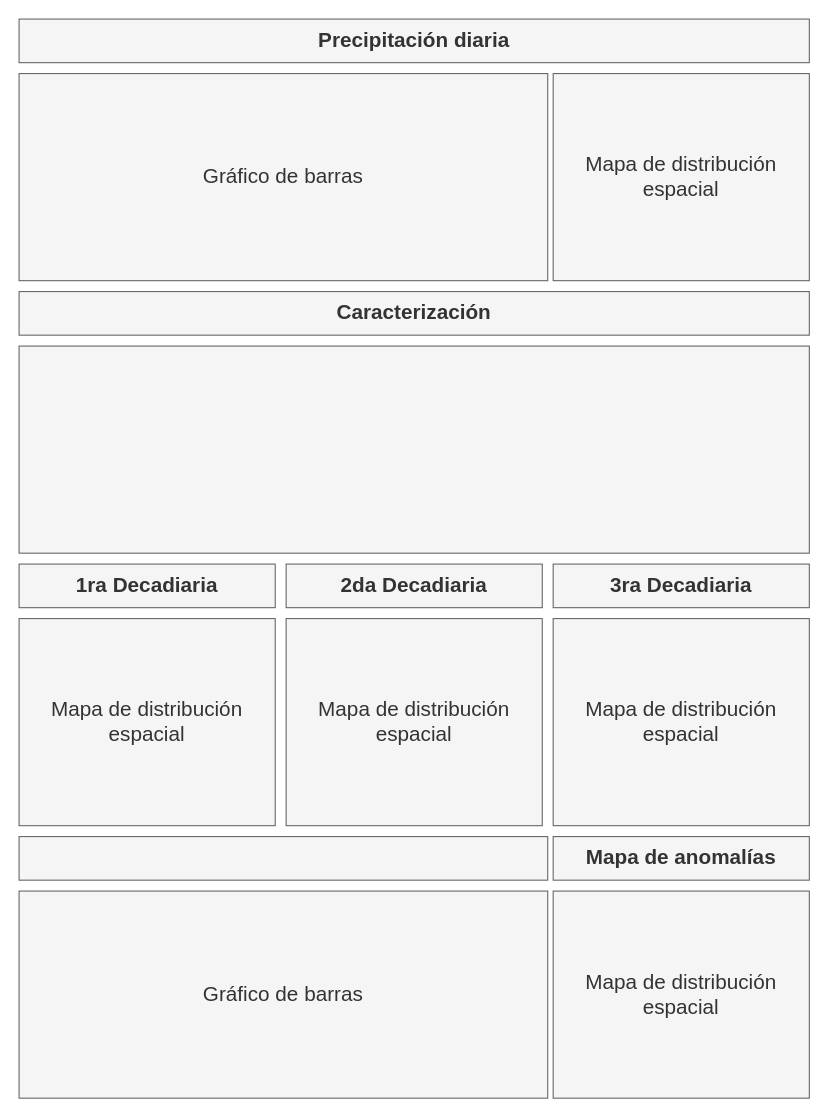
Some shapes in this 828 by 1117 pixel diagram are drawn without their labels. The shapes that lost their labels are listed below. From the top down, each one's centre as x and y in pixels, then its label:
the point at 413,449: Tabla
the point at 283,857: Anomalía mensual
